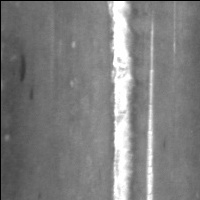inclusion: (15, 50, 29, 85)
scratches: (108, 1, 137, 200), (142, 16, 156, 200)
